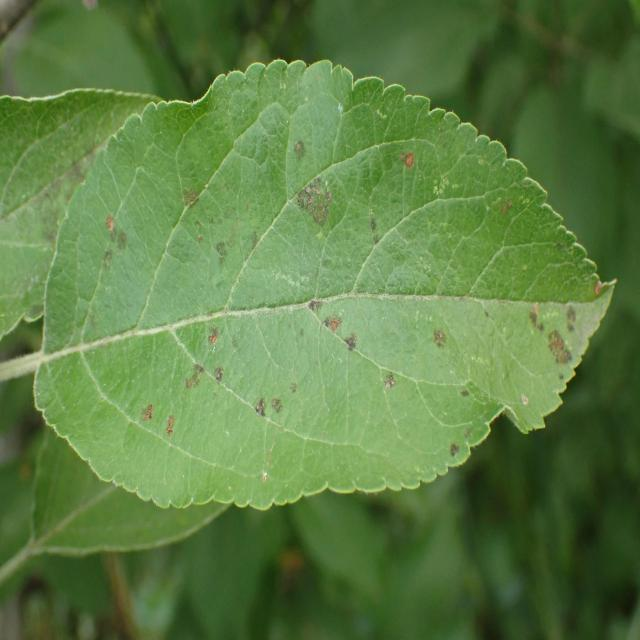scab: (71, 111, 624, 456)
